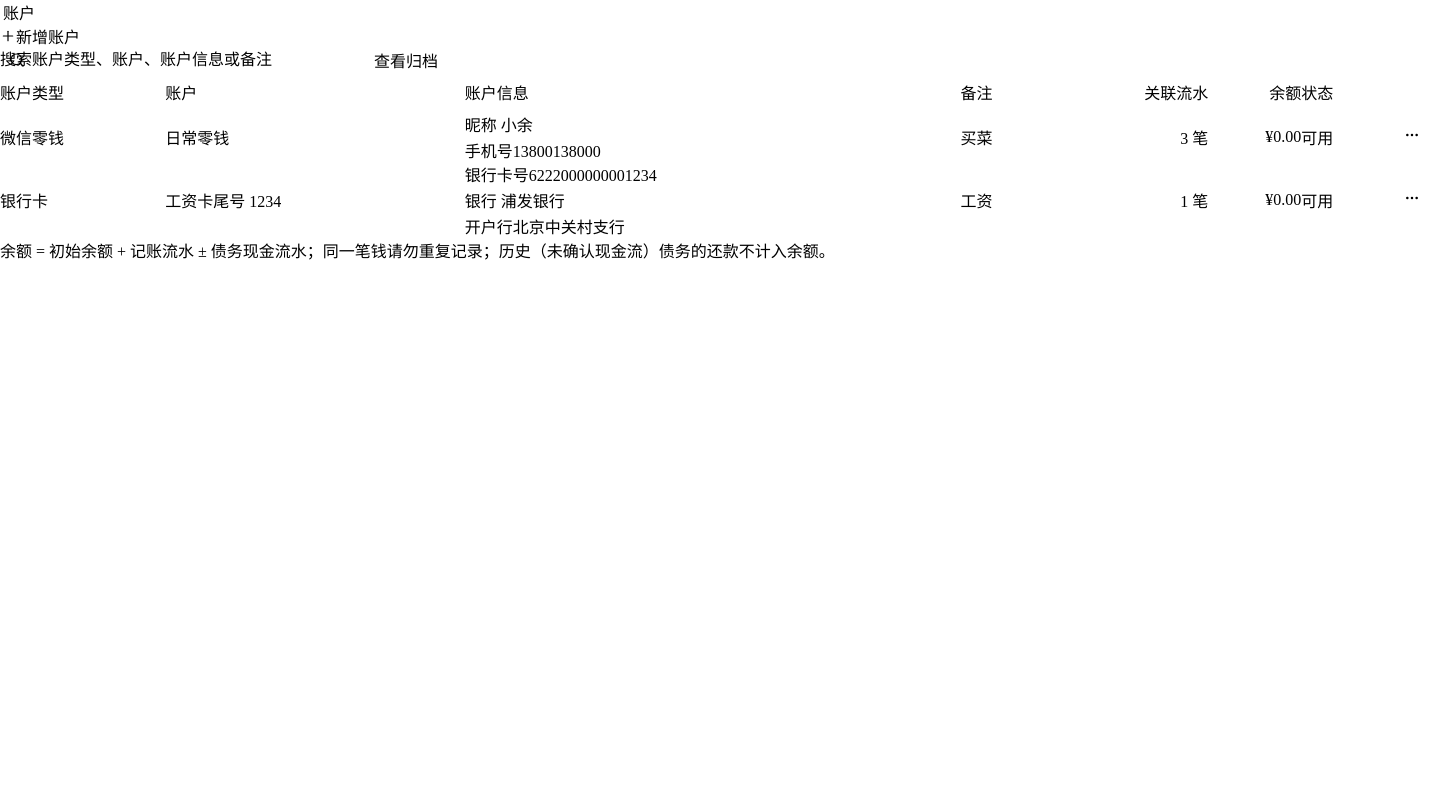
Test: AccountWorkspace › still requires a name for 数字人民币
Click the button "新增账户" at x=40, y=36, box [0,24,80,48]
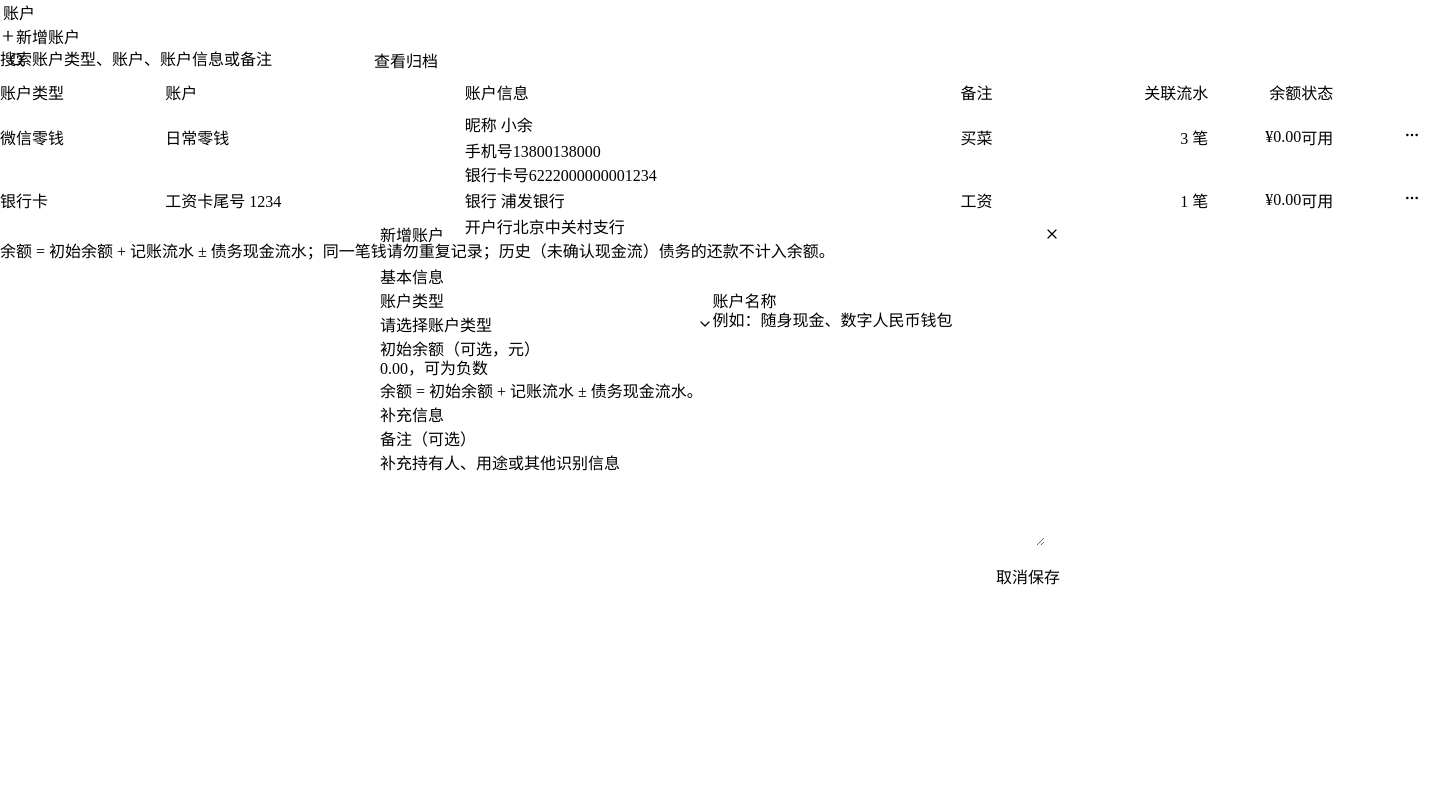
Click the dropdown labelled "账户类型" at x=436, y=326, box [380,312,712,336]
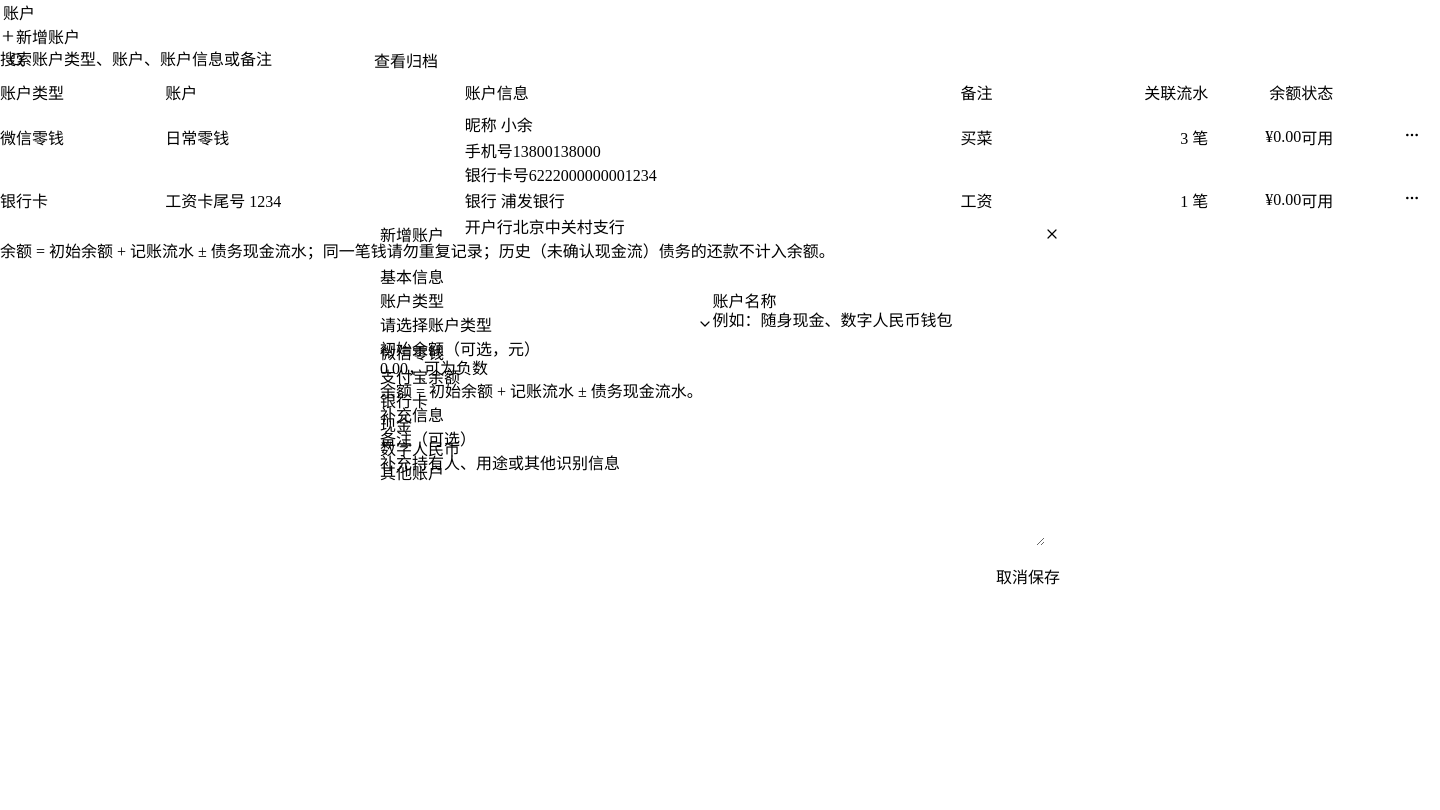
Click the option "数字人民币" at x=420, y=450, box [380,441,460,458]
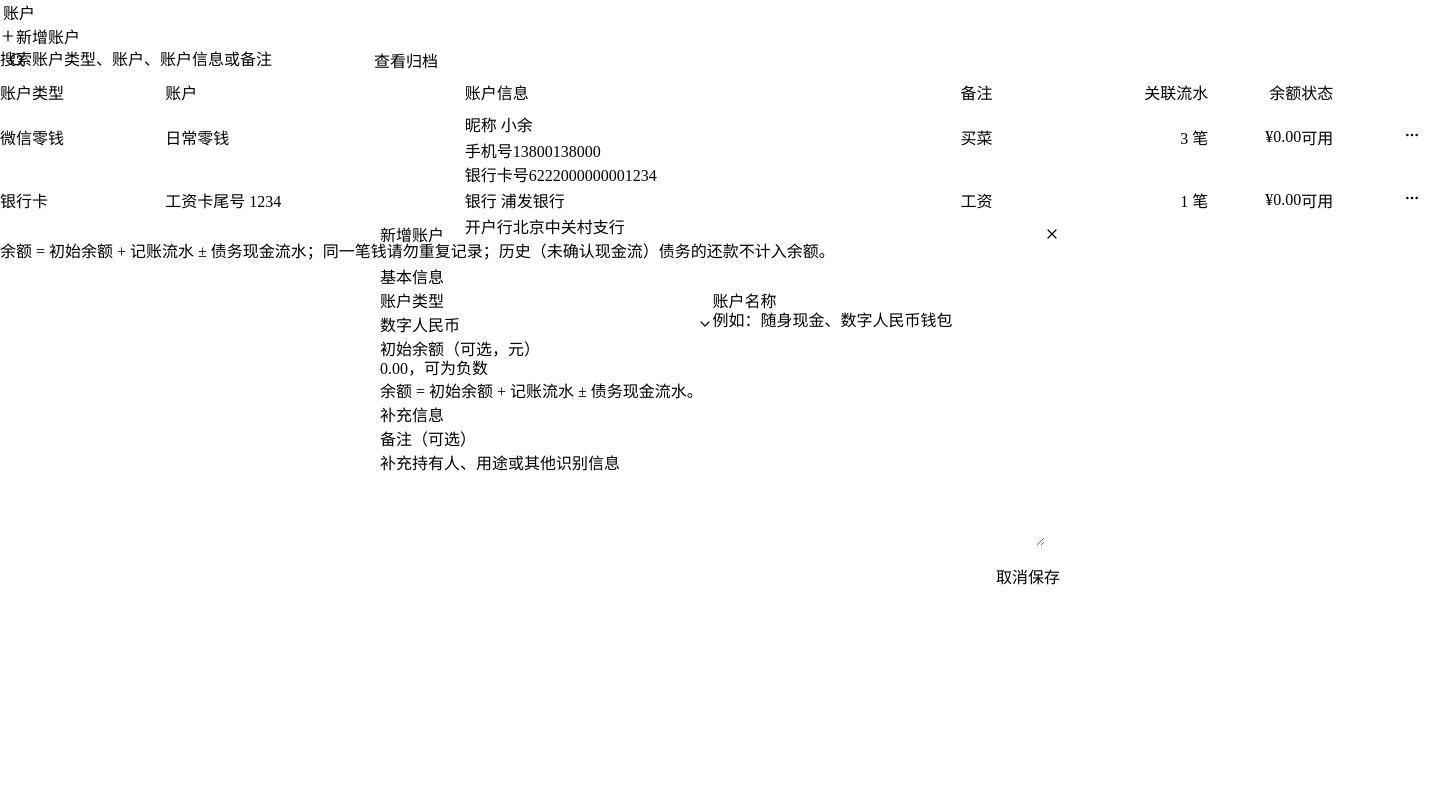
Now the field labelled "账户名称" is empty, box [712,312,1045,330]
Click the button "保存" at x=1044, y=576, box [1028,564,1060,588]
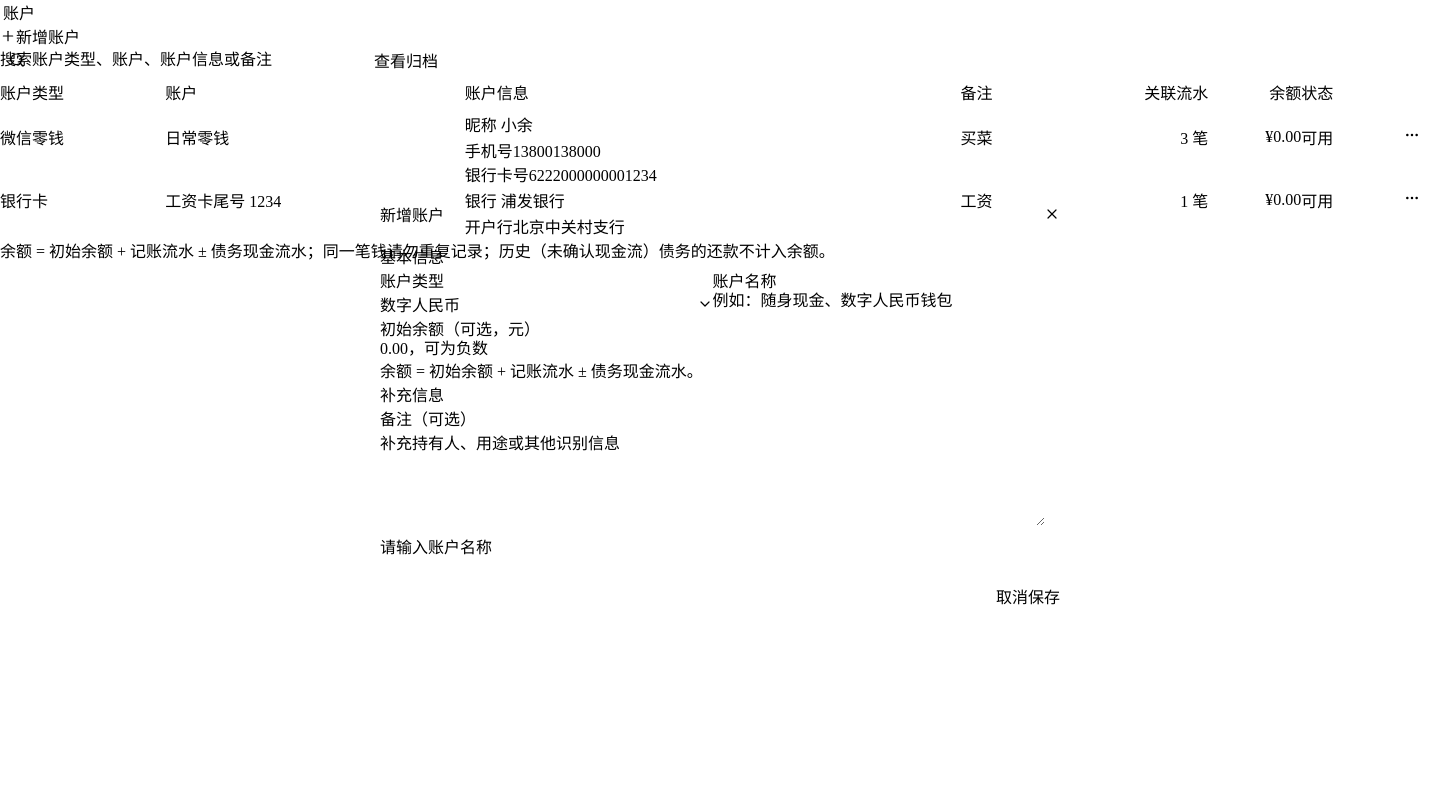
Now the message reads "请输入账户名称", box [380,539,492,556]
